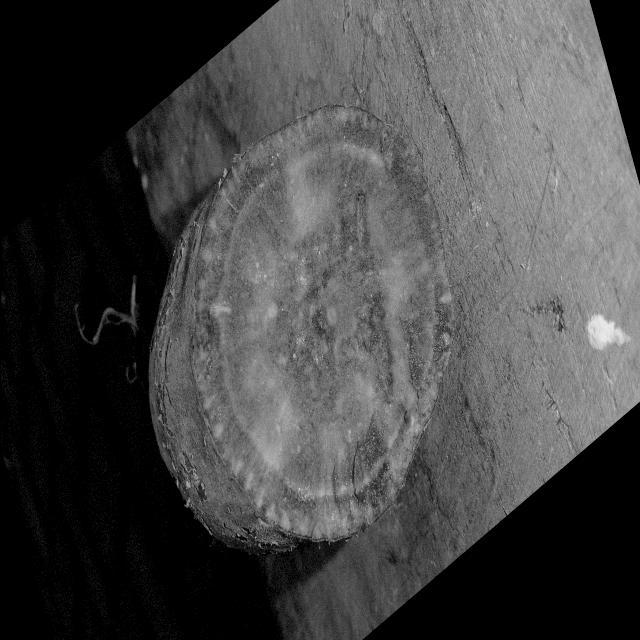Sick Sweet Potato_Tuber Rot: (194, 107, 454, 540)
